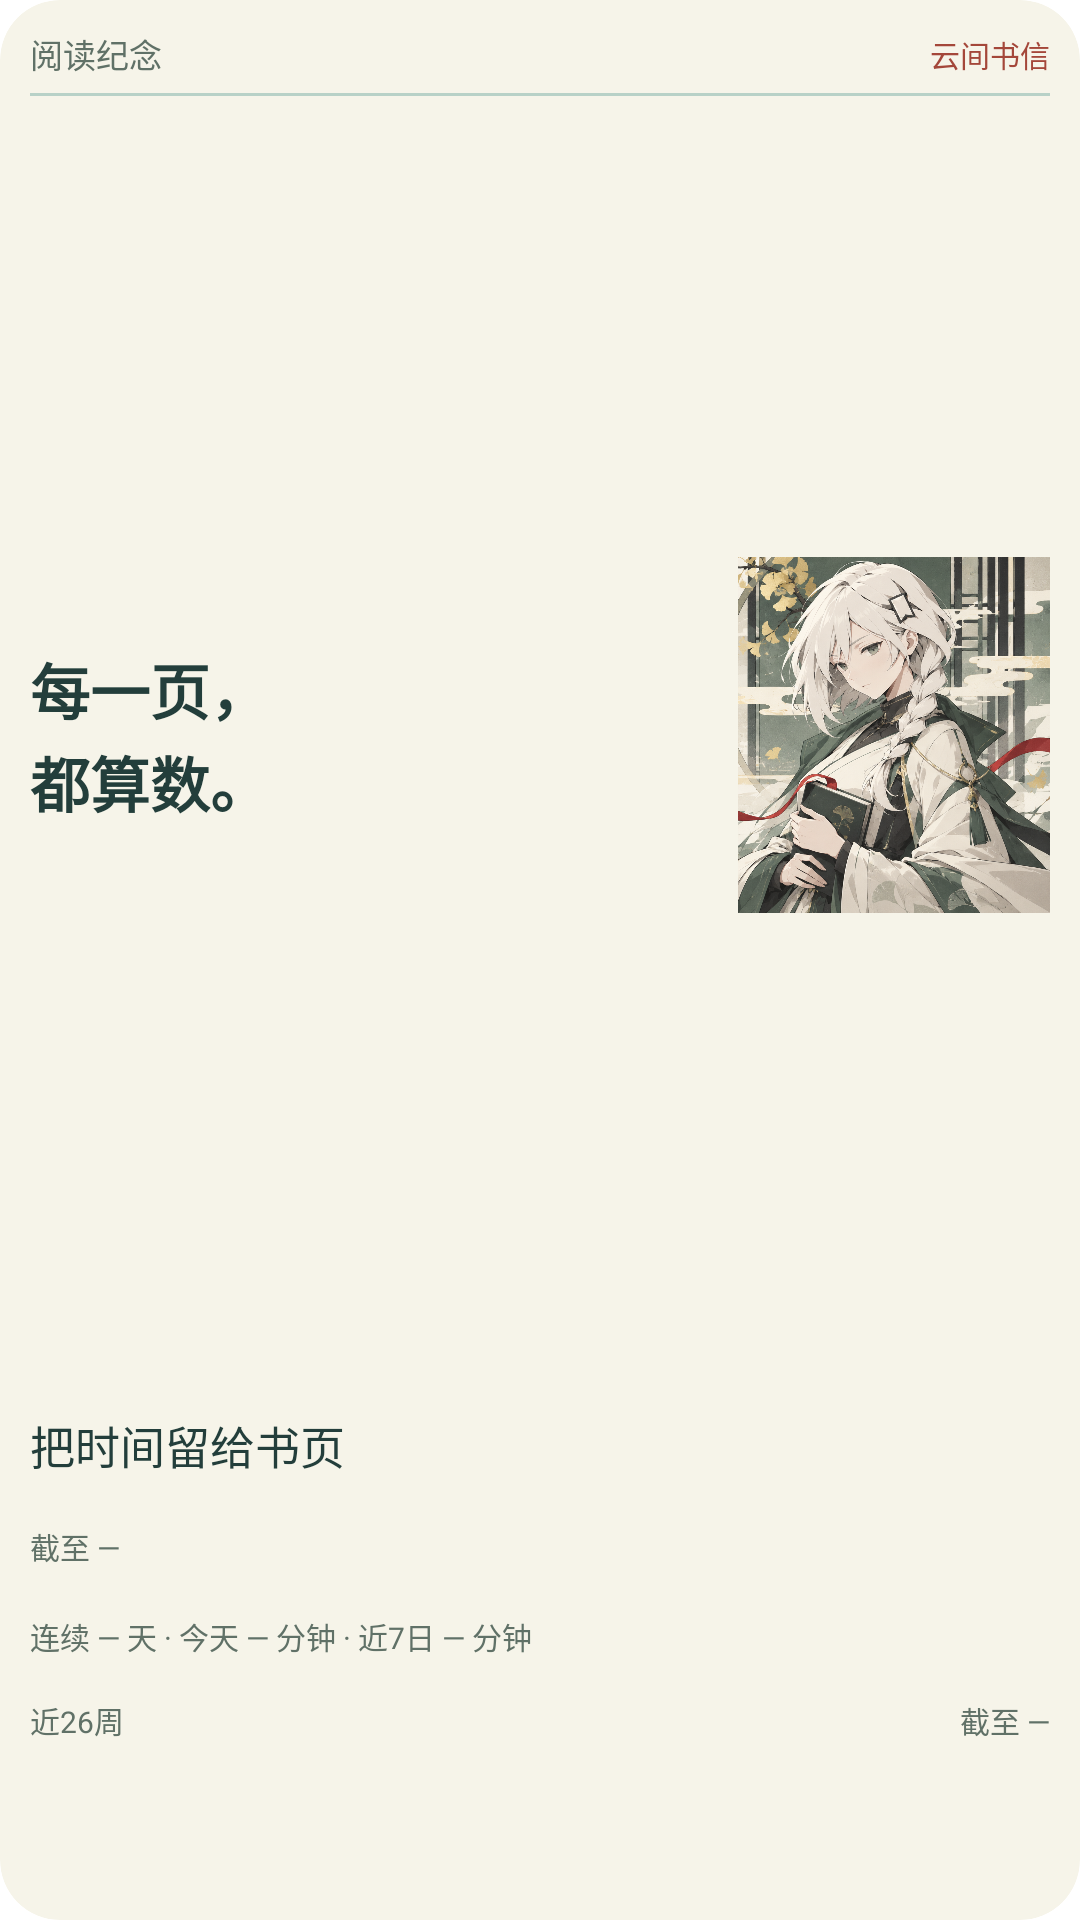

Screen size 1080px×1920px. Icon name, then its box in pixels as bbox=(x1, y1, x2, y2):
reading widget art ink: bbox=(738, 557, 1050, 913)
